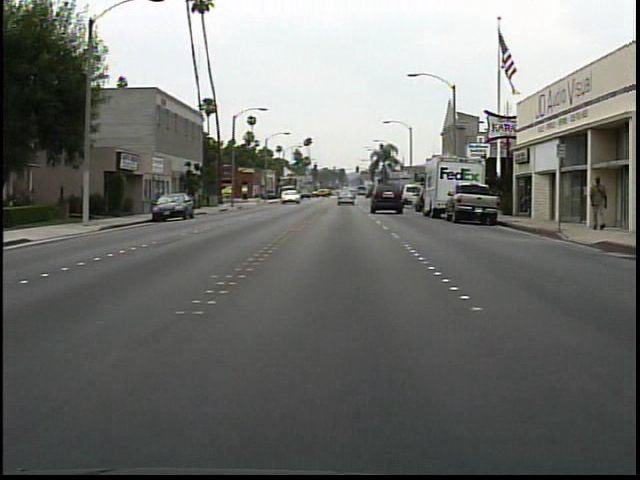person: (582, 173, 611, 235)
